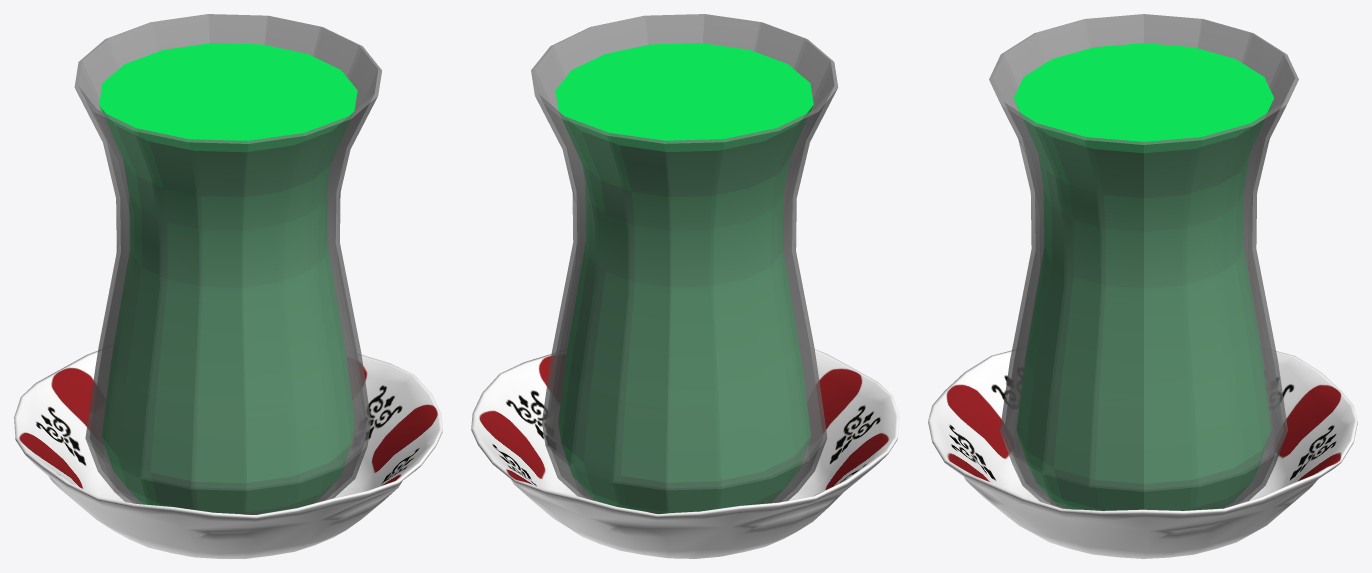
File: Oralets(kiwi).fbx
3 renders of one model, left to right at view 1: azimuth 30°, elevation 25°; view 2: azimuth 150°, elevation 25°; view 3: azimuth 270°, elevation 25°, orthographic.
Parts seen in each view (by area): view 1: TeaGlass, Kiwi, TeaGlassCoater; view 2: TeaGlass, Kiwi, TeaGlassCoater; view 3: TeaGlass, Kiwi, TeaGlassCoater.
Part boxes in pixels (left/top/right/bottom): TeaGlass: left=74, top=14, right=381, bottom=514; Kiwi: left=99, top=43, right=357, bottom=514; TeaGlassCoater: left=14, top=349, right=442, bottom=558; TeaGlass: left=531, top=14, right=838, bottom=513; Kiwi: left=555, top=43, right=813, bottom=513; TeaGlassCoater: left=471, top=348, right=899, bottom=558; TeaGlass: left=989, top=14, right=1298, bottom=510; Kiwi: left=1013, top=43, right=1273, bottom=510; TeaGlassCoater: left=928, top=350, right=1357, bottom=558.
Bounding box in the file's own units: 51.36 × 56.79 × 51.36.
Materials: 3 (1 with a texture image).
